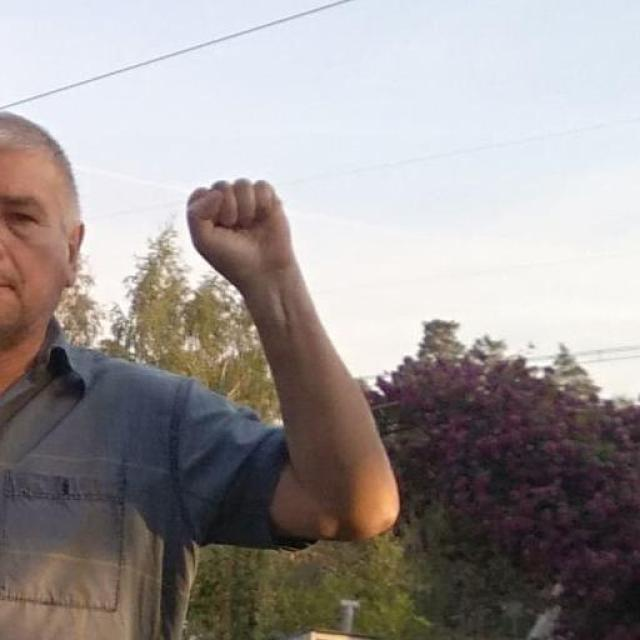hand: (186, 176, 298, 290)
